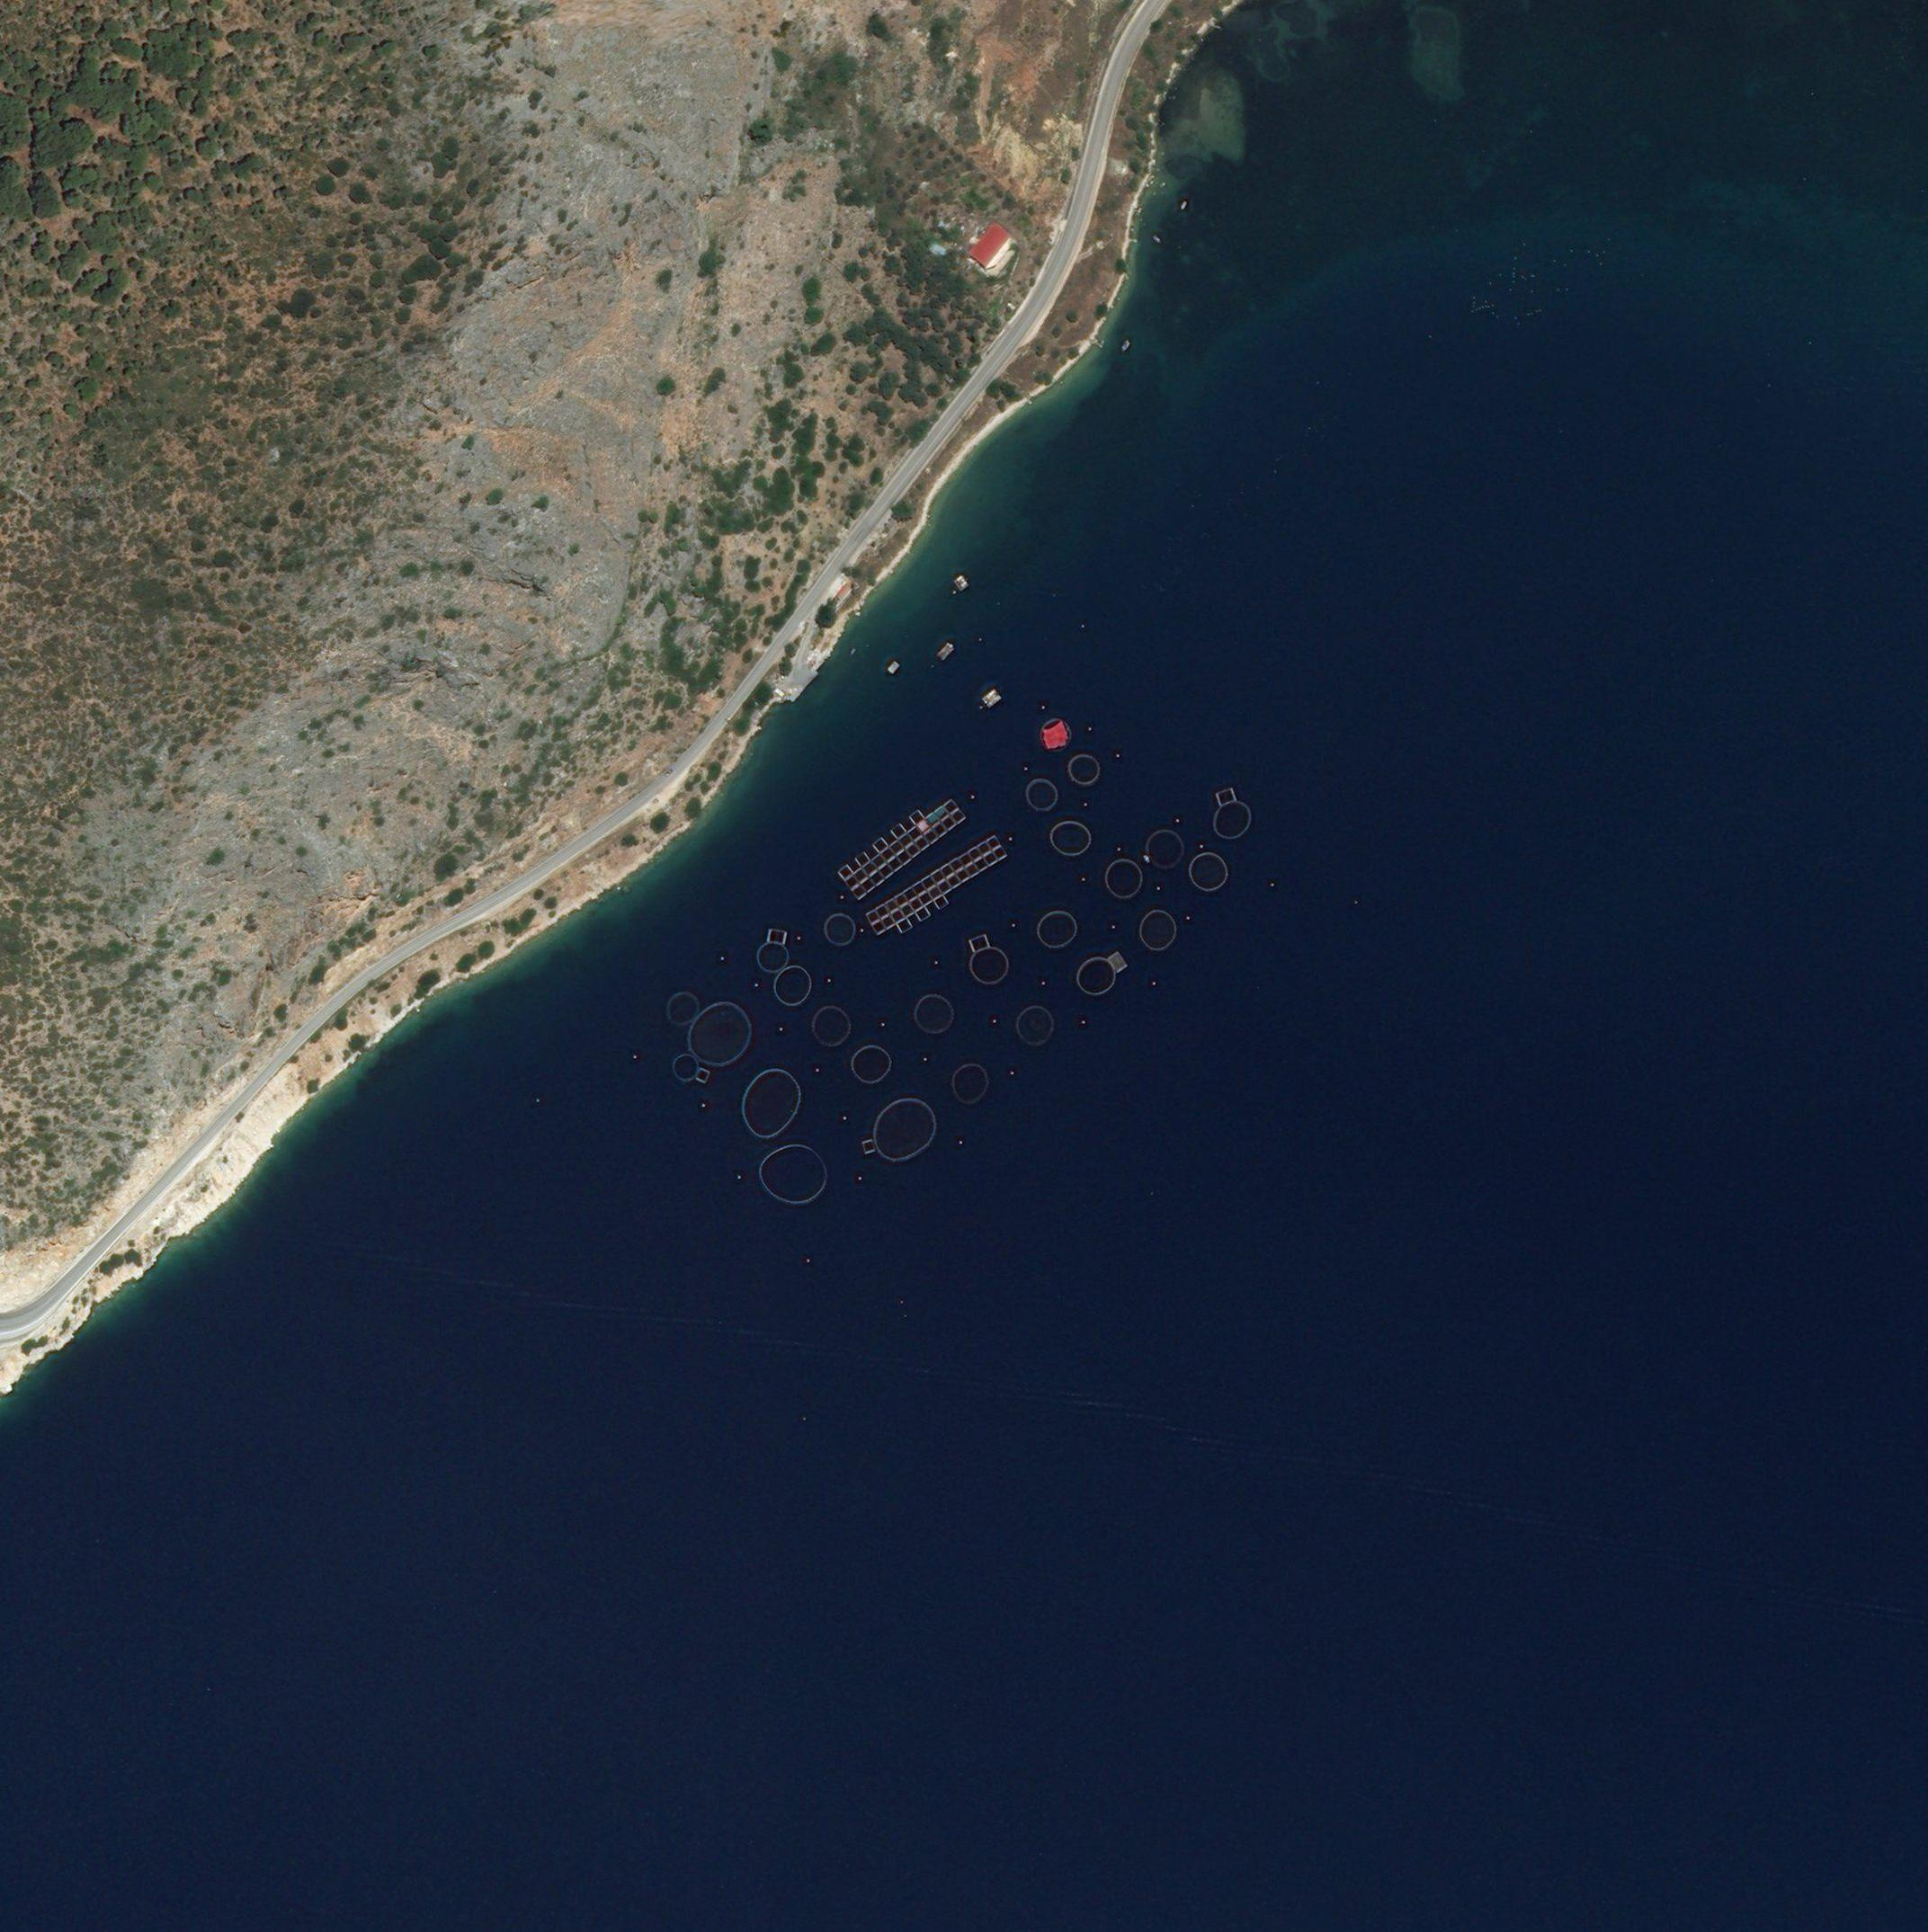c: (754, 1143, 833, 1212), (870, 1094, 939, 1163), (742, 1067, 802, 1138), (909, 988, 959, 1036), (946, 1060, 992, 1106), (805, 1004, 853, 1048), (1135, 907, 1179, 953), (1012, 1002, 1056, 1048), (1073, 953, 1119, 995), (1142, 824, 1185, 870), (1043, 819, 1093, 857), (1036, 907, 1079, 951), (1100, 859, 1144, 902), (847, 1043, 893, 1083), (1211, 799, 1257, 840), (1186, 849, 1229, 891), (770, 963, 812, 1006), (817, 910, 858, 949), (662, 988, 703, 1027), (969, 946, 1010, 985), (1063, 752, 1103, 787), (1024, 776, 1059, 812), (754, 940, 789, 974)
